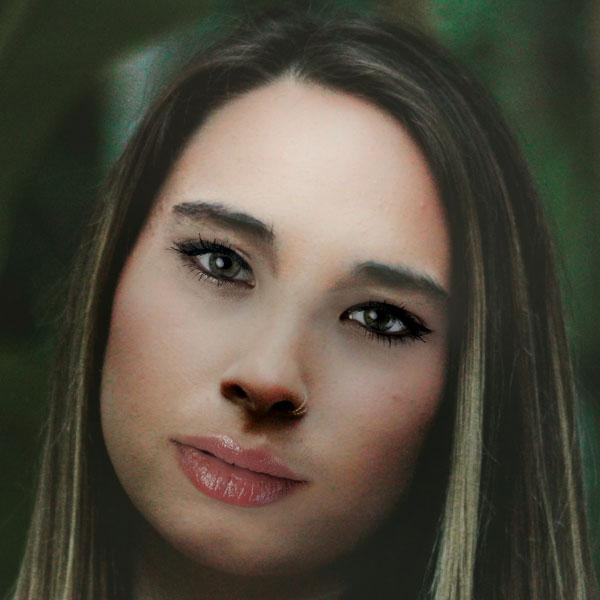Eyes: (331, 292, 438, 352), (168, 231, 264, 296)
